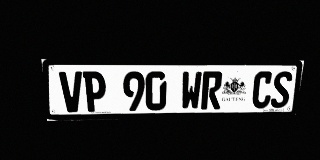0: (145, 71, 167, 111)
9: (123, 71, 145, 111)
C: (251, 71, 274, 108)
P: (83, 71, 106, 112)
R: (201, 71, 223, 109)
S: (270, 71, 293, 108)
V: (59, 71, 84, 112)
W: (180, 71, 202, 110)
